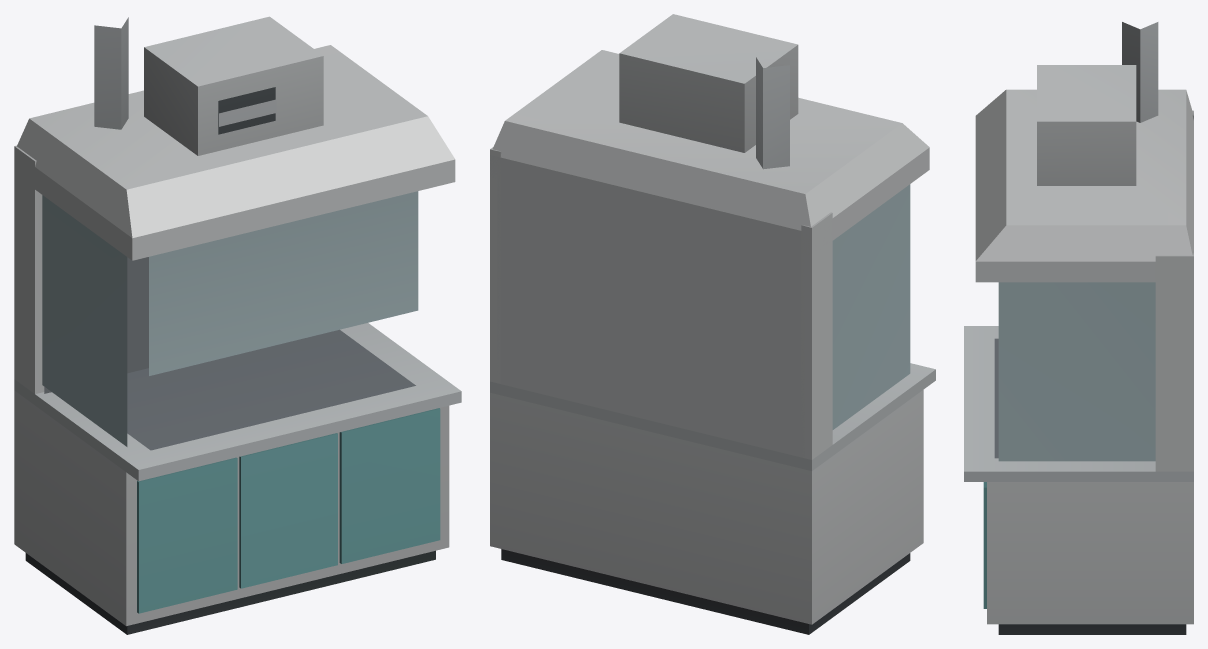
Rendered from hood.lod2.glb.
The picture shows the model from 3 angles, left to right: view 1: azimuth 30°, elevation 25°; view 2: azimuth 150°, elevation 25°; view 3: azimuth 270°, elevation 25°; orthographic projection. The views are drawn at different scales.
Size of the model in its own units: 1.8 by 2.89 by 1.2.
